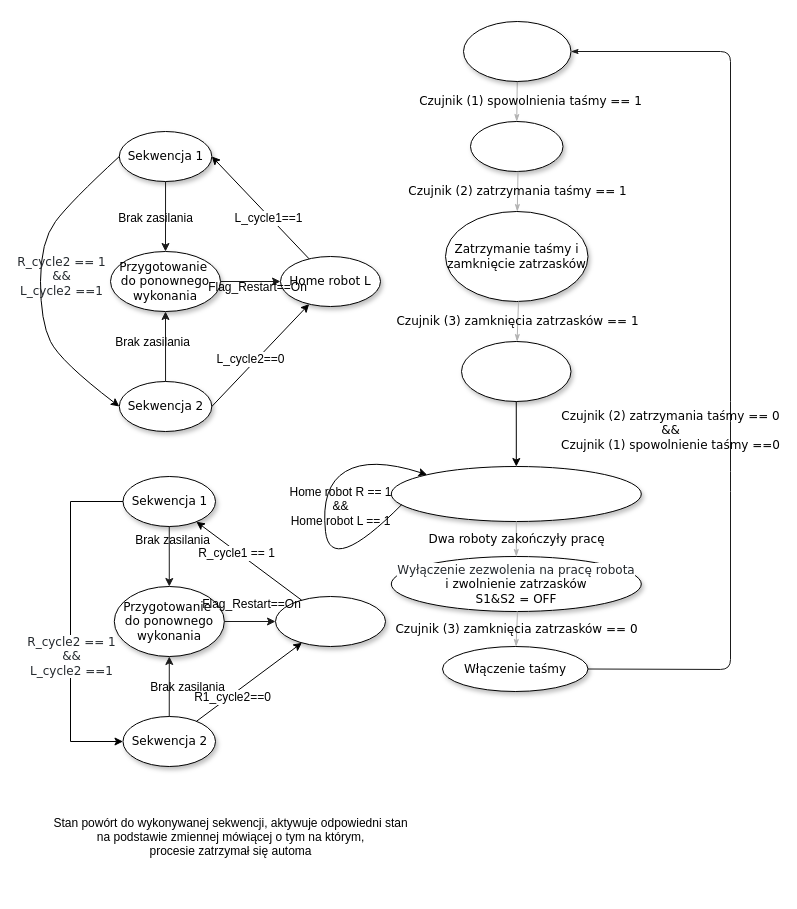
The diagram is 797 pixels wide and 909 high, and some of its shapes have lost their labels. Here are the shapes that lost their labels. From the top down, the centre of each, then its label:
At (x=517, y=52): "Wjazd części w strefę roboczą".
At (x=517, y=147): "Spowolnienie taśmy".
At (x=516, y=372): "Zezwolenie na pracę robotów S1&S2 = ON".
At (x=516, y=495): "Sprawdzenie pozycji robota".
At (x=331, y=623): "Home robot R".
